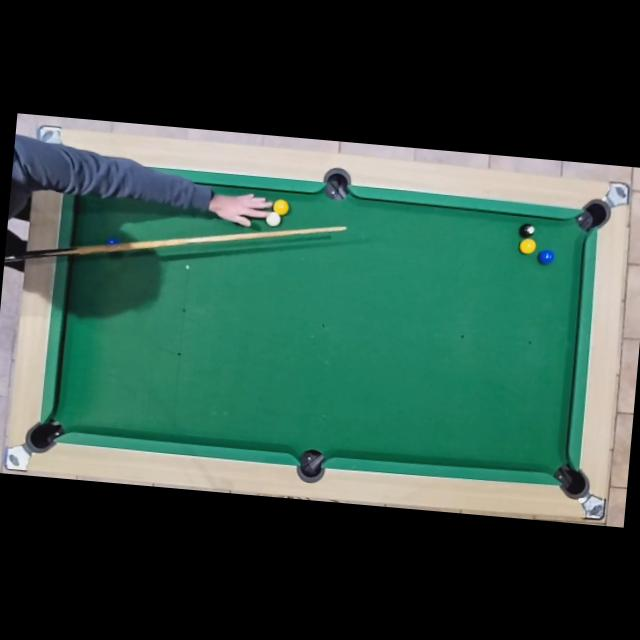Ball: (102, 236, 121, 253), (272, 198, 289, 216), (519, 238, 536, 254), (536, 250, 553, 266), (266, 210, 282, 227), (518, 222, 534, 237)
